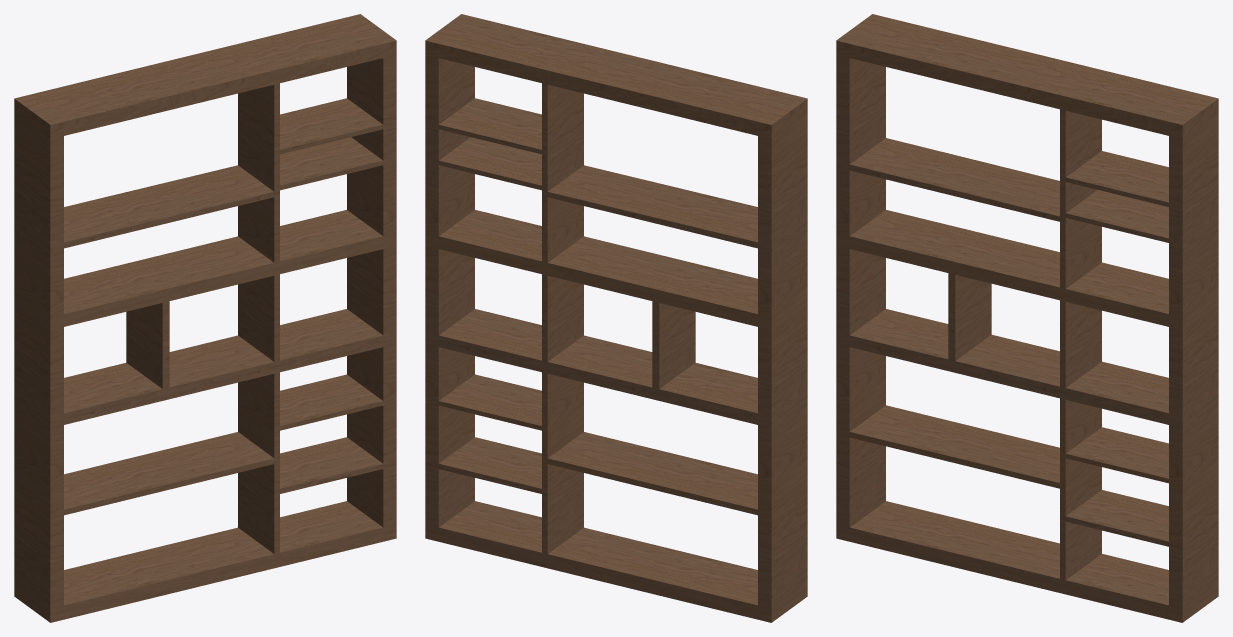
File: RetroRoomDivider.obj
The picture shows the model from 3 angles, left to right: view 1: azimuth 30°, elevation 25°; view 2: azimuth 150°, elevation 25°; view 3: azimuth 330°, elevation 25°; orthographic projection.
Visible parts, largest first — view 1: RetroRoomDivider; view 2: RetroRoomDivider; view 3: RetroRoomDivider.
Boxes of the visible parts, <box> form: RetroRoomDivider: <box>14,14,396,622</box>; RetroRoomDivider: <box>425,14,807,622</box>; RetroRoomDivider: <box>836,14,1218,622</box>.
Size of the model in its own units: 165 by 226 by 29.89.
1 material, 1 textured.
